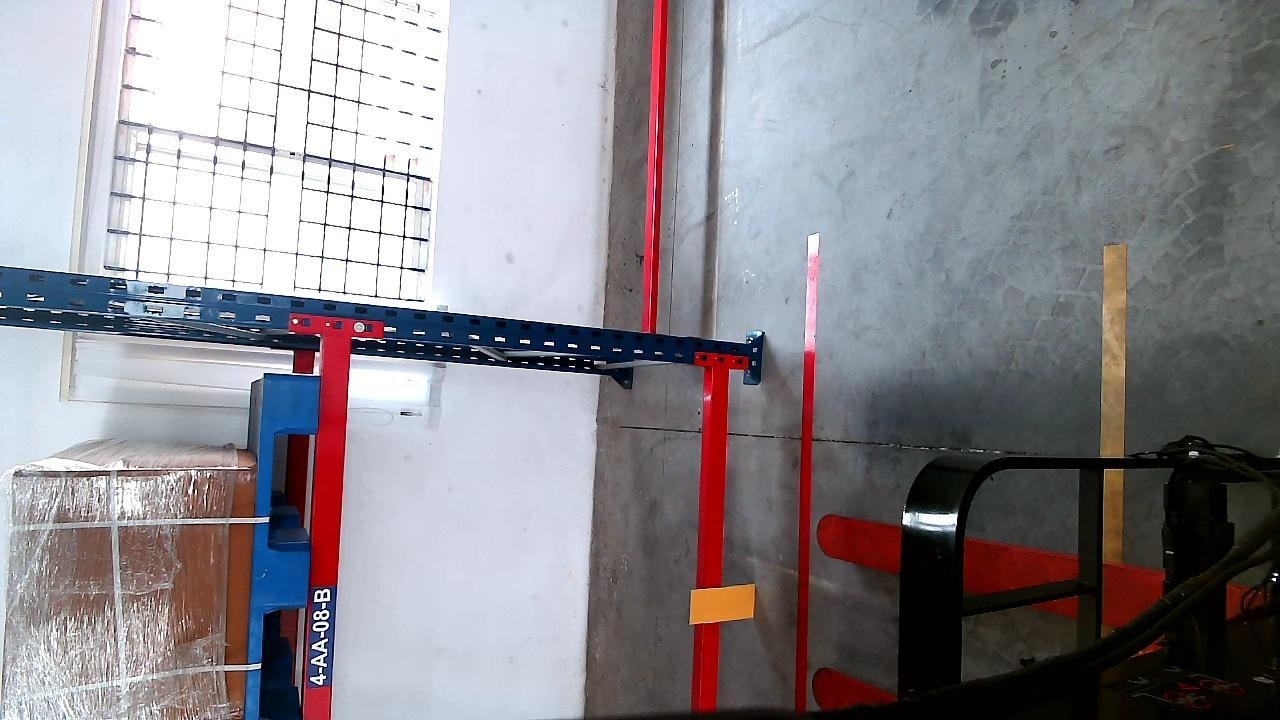red_line: (793, 239, 821, 710)
yellow_line: (1100, 232, 1127, 564)
